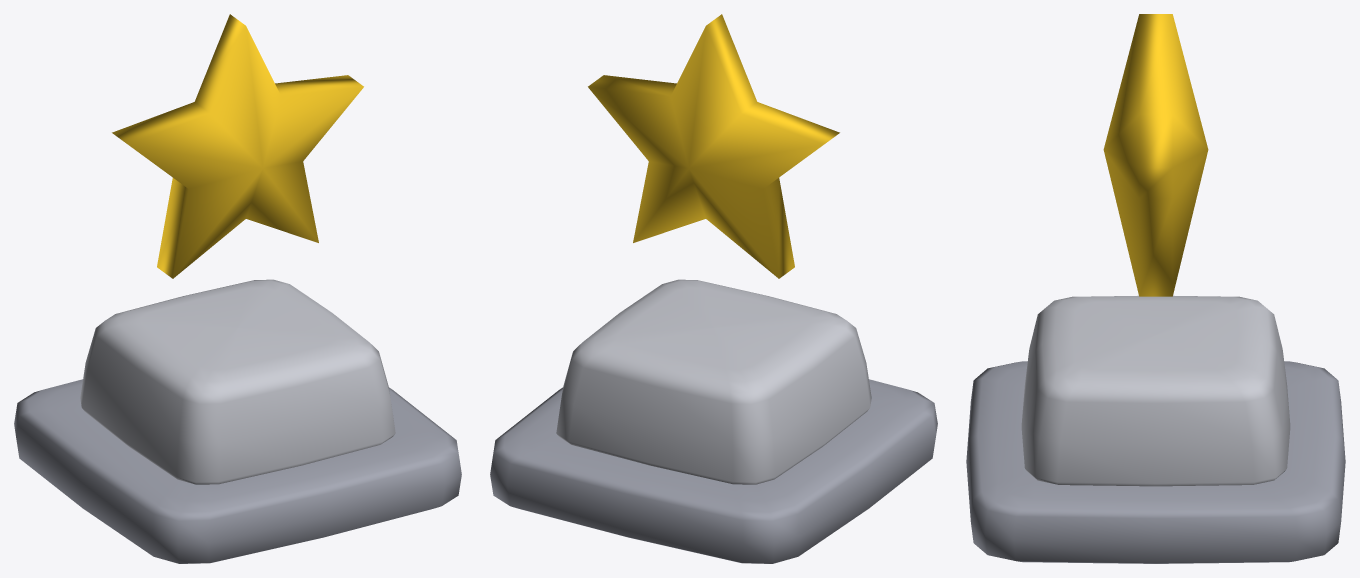
File: golden_star.glb
3 views of the same model, side by side, from view 1: azimuth 30°, elevation 25°; view 2: azimuth 150°, elevation 25°; view 3: azimuth 270°, elevation 25° (orthographic). The views are drawn at different scales.
Parts seen in each view (by area): view 1: Pedestal, Star; view 2: Pedestal, Star; view 3: Pedestal, Star.
Boxes of the visible parts, x1,y1,x2,y2 form: Pedestal: (14, 279, 461, 563); Star: (112, 14, 363, 278); Pedestal: (490, 279, 937, 563); Star: (588, 14, 839, 278); Pedestal: (966, 295, 1345, 563); Star: (1103, 14, 1208, 296).
Size of the model in its own units: 0.76 by 1.06 by 0.76.
